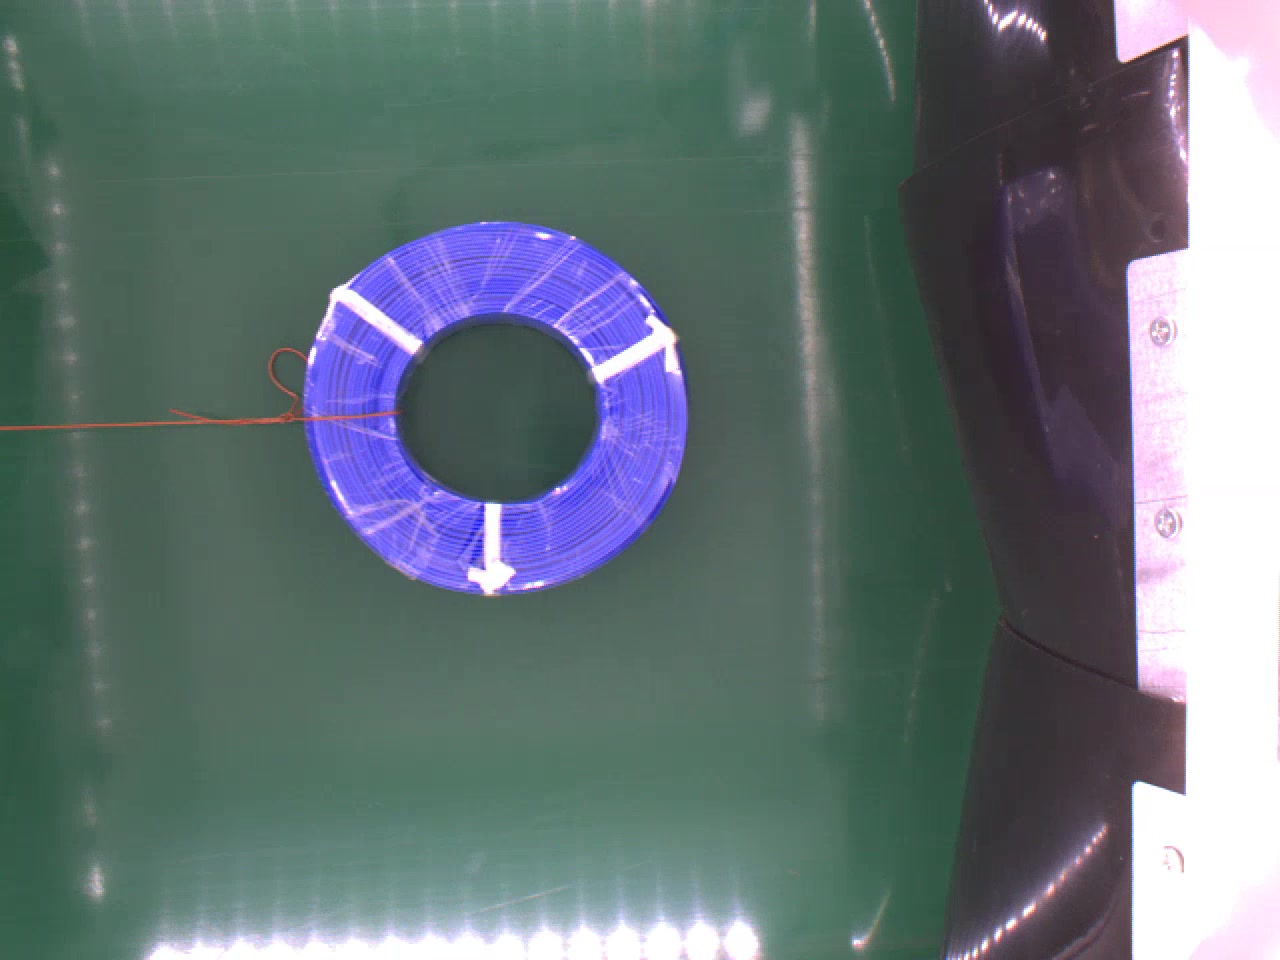blue: (303, 218, 694, 597)
